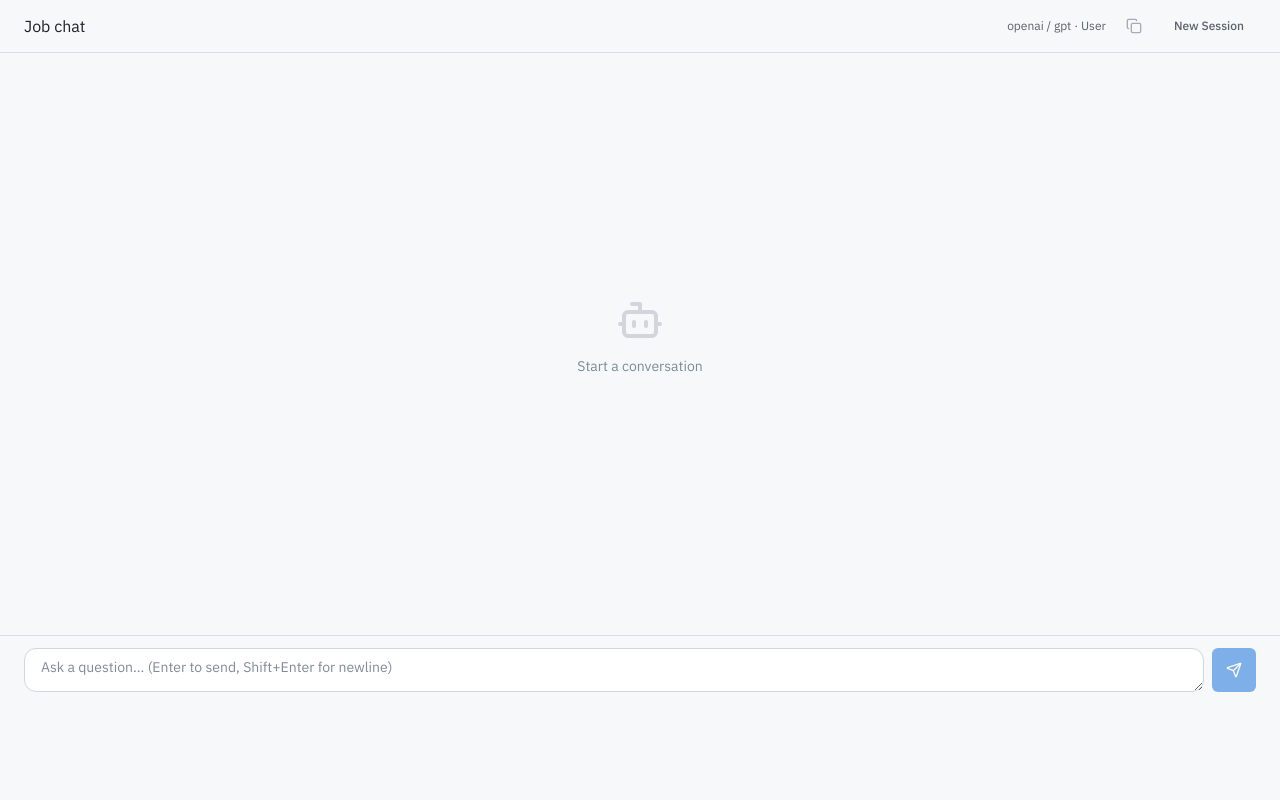
Test: does not delete a replacement with different metadata when New Session sees stale history
The image size is (1280, 800).
Expected: the text box with placeholder "Ask a question... (Enter to send, Shift+Enter for newline)" is enabled, top-left (24, 648), bottom-right (1204, 692)
Click the button "New Session". click: (1209, 26)
box: top-left (1162, 12), bottom-right (1256, 40)
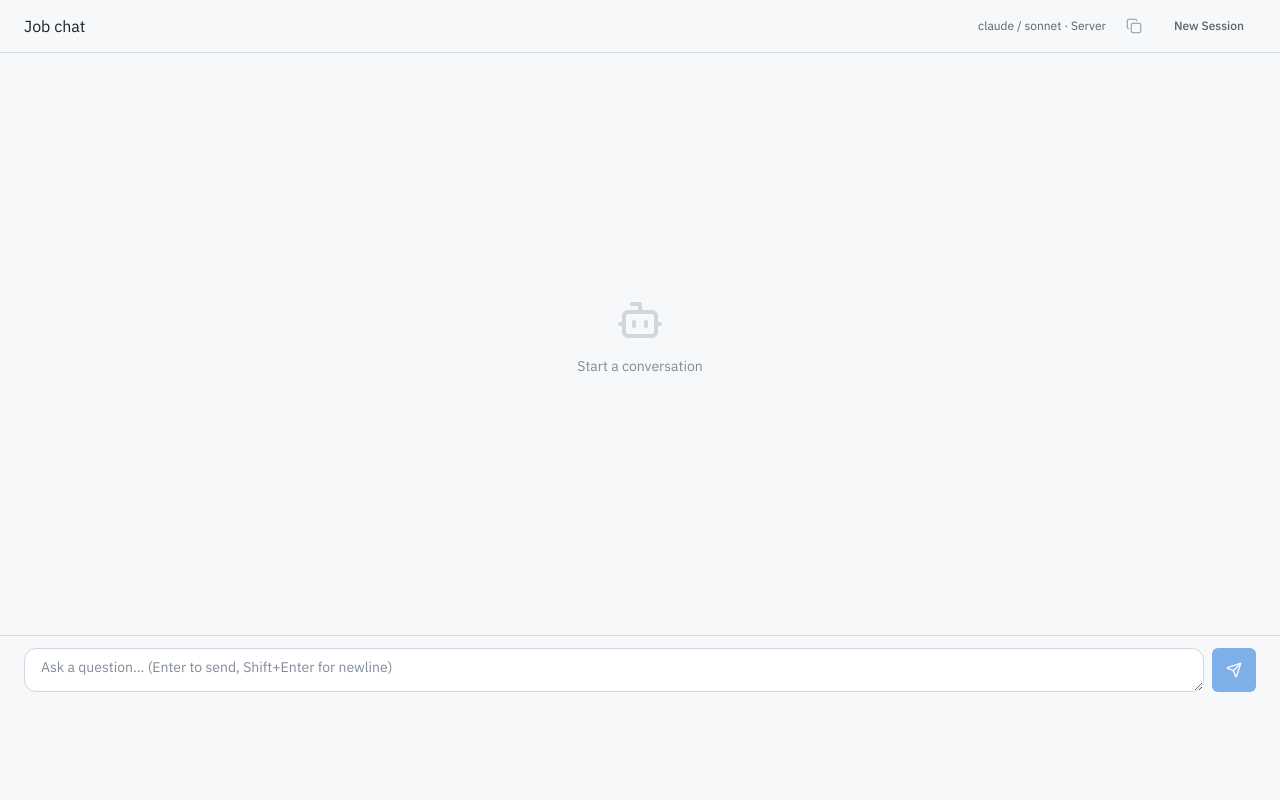
Expected: the text "claude / sonnet · Server" is shown, top-left (978, 18), bottom-right (1106, 34)
